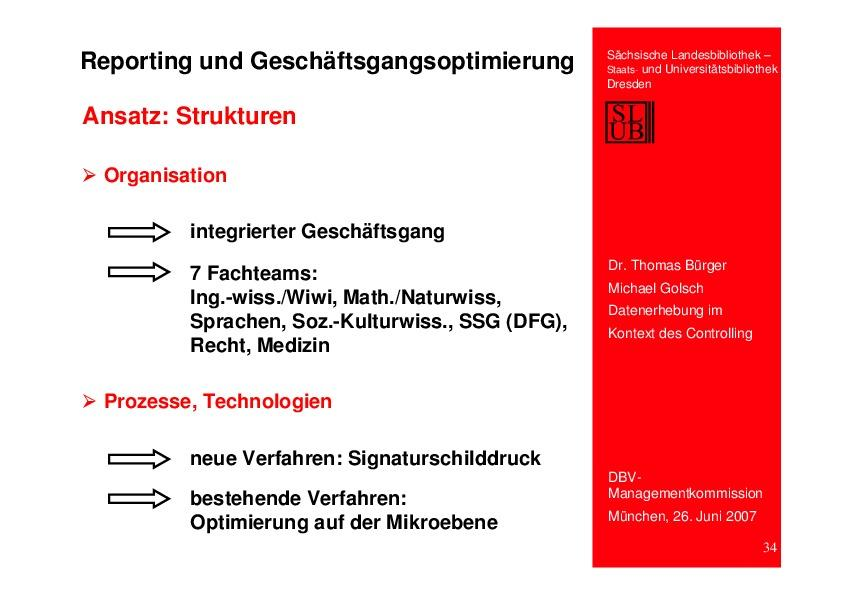paragraph: (57, 97, 584, 555)
title: (65, 35, 585, 88)
